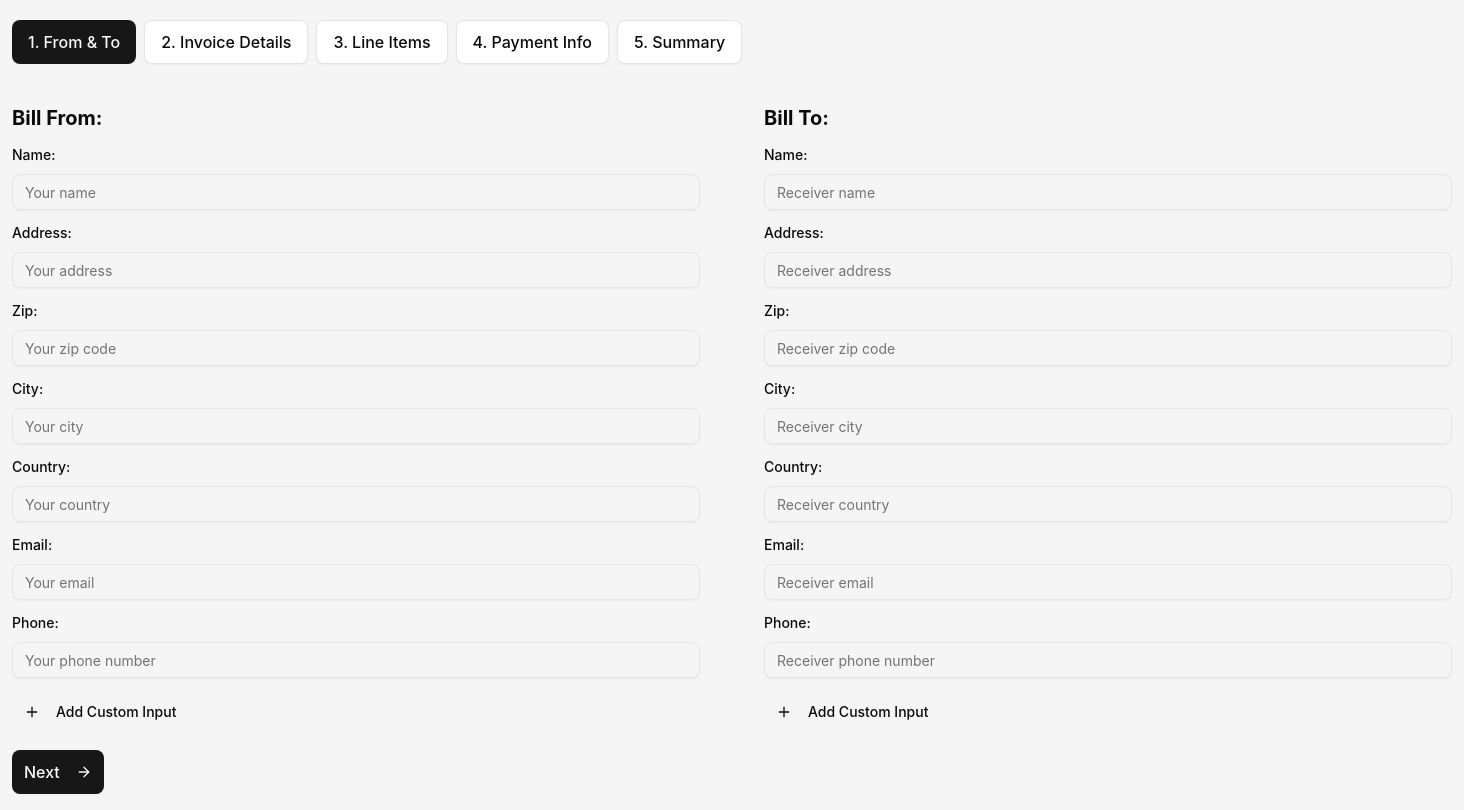
Test: InvoiceInfo › navigates to Invoice Details (page 1) when Next is clicked
This screenshot has width=1464, height=810.
Click the button "Next": (58, 772) [12,750,104,794]
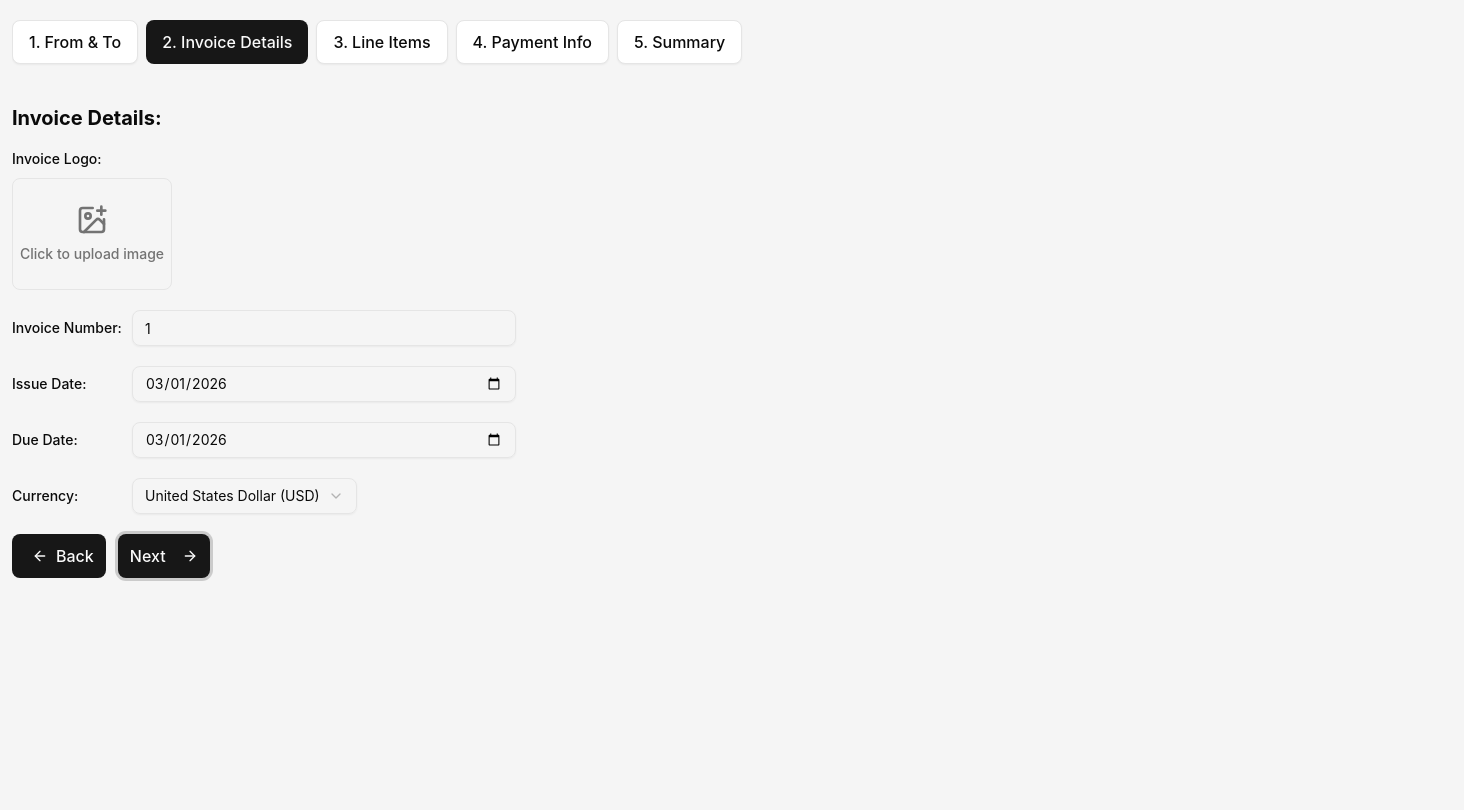
Expected: the heading "Invoice Details:" is shown, [12,106,162,130]
